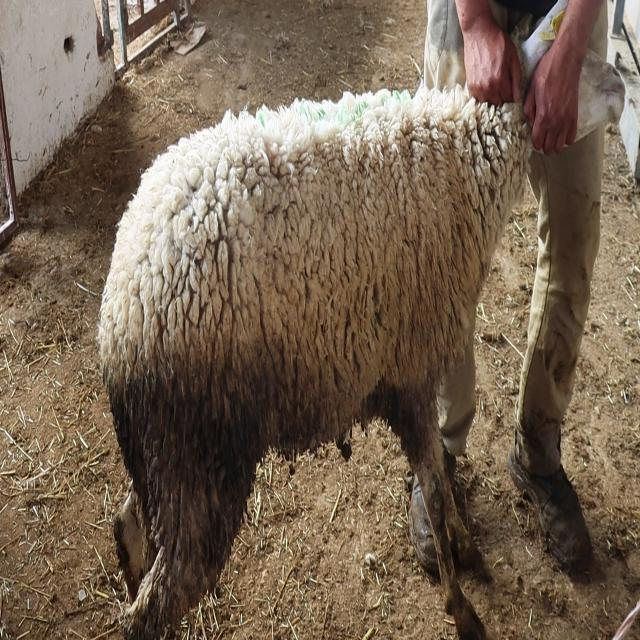Score_3: (98, 88, 532, 639)
